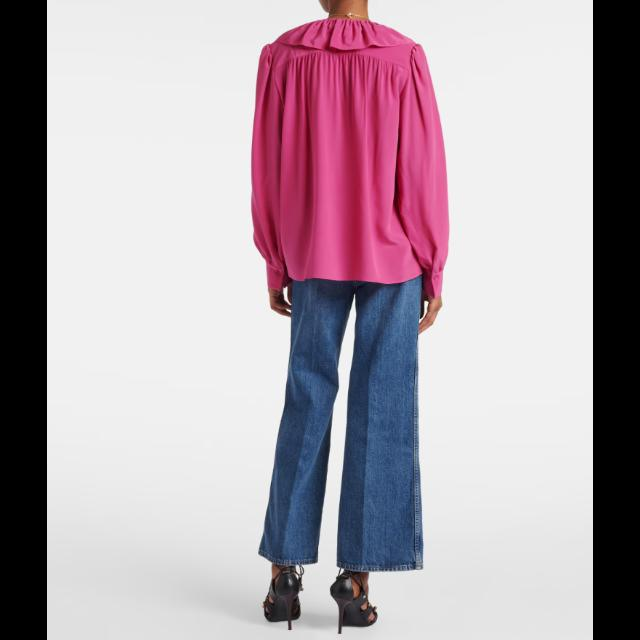bottom: (281, 287, 421, 573)
top: (253, 22, 439, 284)
